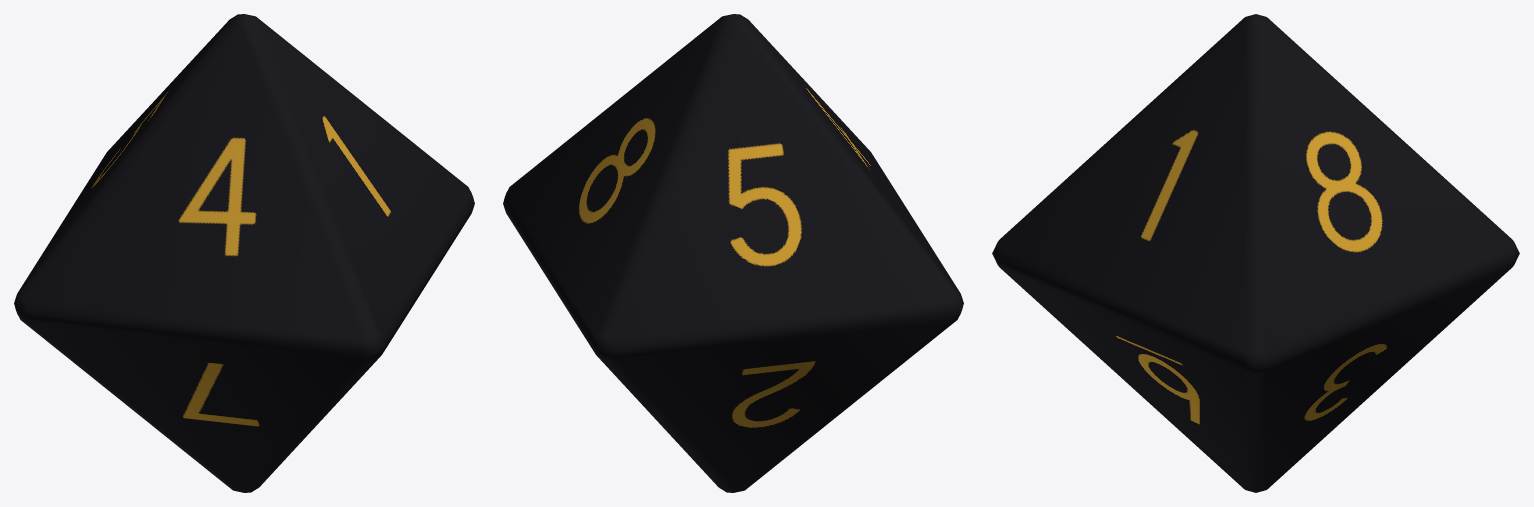
3 views of the same model, side by side, from view 1: azimuth 30°, elevation 25°; view 2: azimuth 150°, elevation 25°; view 3: azimuth 270°, elevation 25° (orthographic).
Visible parts, largest first — view 1: d8; view 2: d8; view 3: d8.
Part boxes in pixels (x1,y1,x2,y2): d8: (14, 14, 474, 492); d8: (503, 14, 963, 492); d8: (992, 14, 1519, 492).
Size of the model in its own units: 1.19 by 1.19 by 1.19.
1 material, 1 textured.
